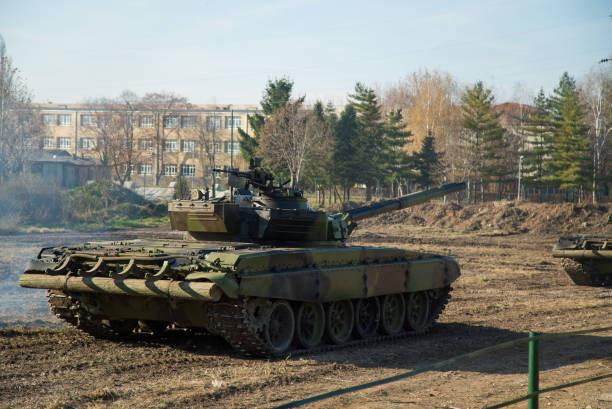tank: (16, 156, 468, 361)
